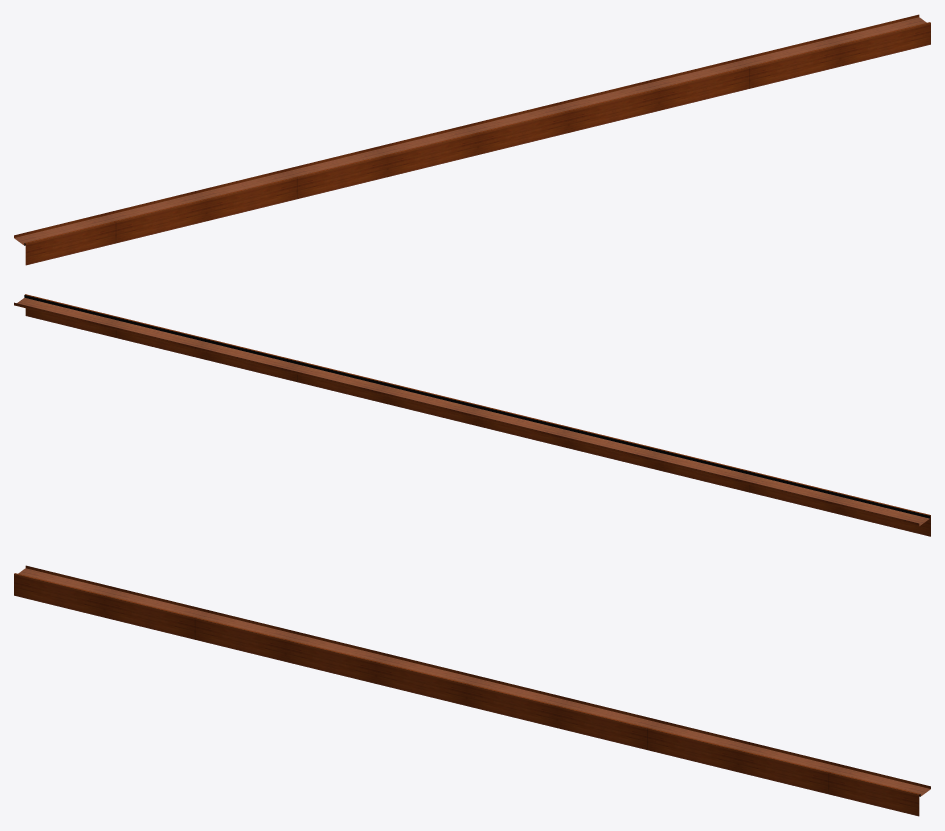
File: BaseBanda.fbx
The picture shows the model from 3 angles, top to bottom: view 1: azimuth 30°, elevation 25°; view 2: azimuth 150°, elevation 25°; view 3: azimuth 330°, elevation 25°; orthographic projection.
Visible parts, largest first — view 1: BaseCompilado; view 2: BaseCompilado; view 3: BaseCompilado.
Boxes of the visible parts, x1,y1,x2,y2 form: BaseCompilado: (14,14,930,265); BaseCompilado: (14,294,930,536); BaseCompilado: (14,565,930,816).
Size of the model in its own units: 100 by 2.2 by 2.3.
Materials: 1 (1 with a texture image).
